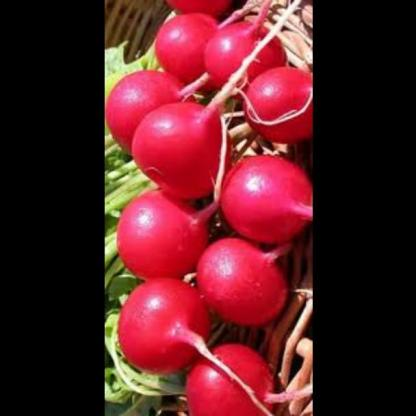rediska: (112, 188, 214, 287), (115, 277, 212, 377), (192, 238, 287, 329), (128, 106, 226, 194), (104, 73, 200, 162), (217, 154, 311, 244), (197, 15, 285, 96), (183, 343, 280, 416), (235, 65, 311, 147), (150, 8, 221, 80), (160, 1, 242, 17)
